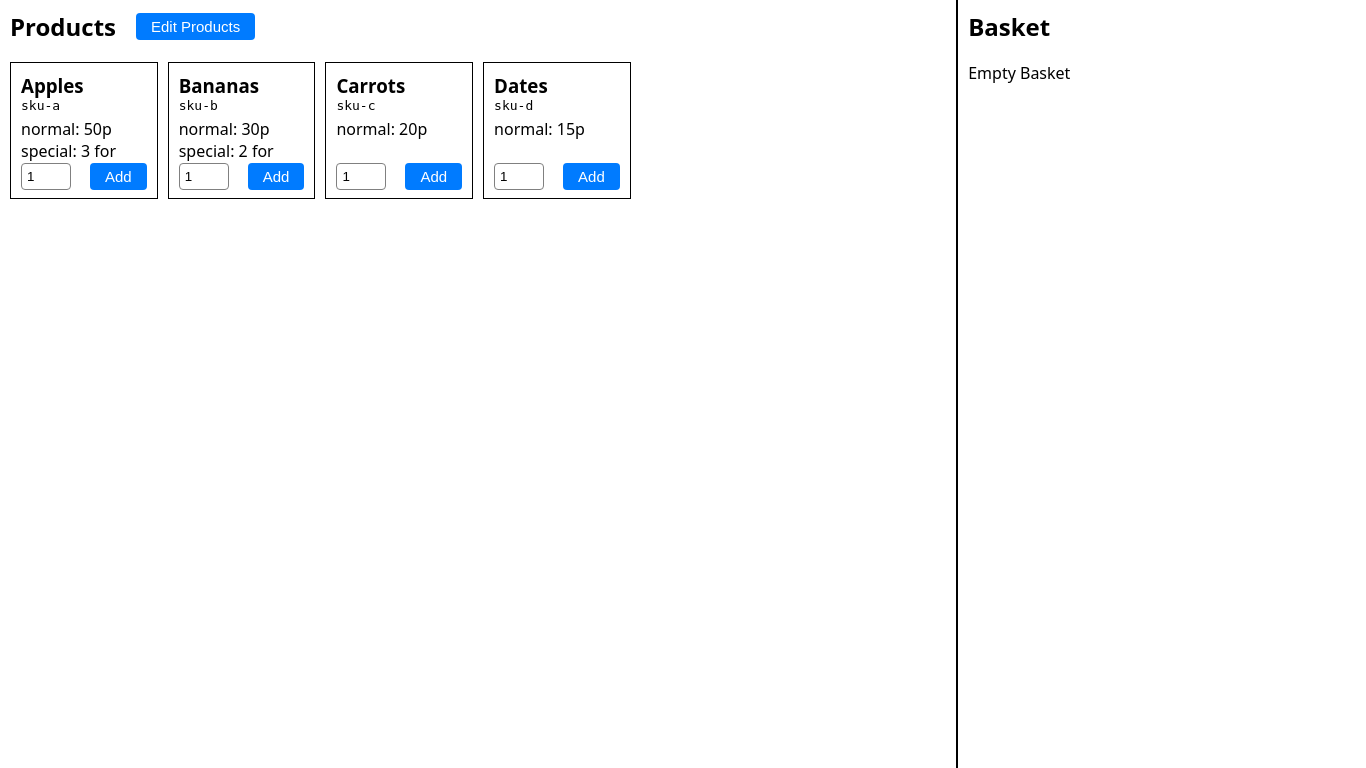
Shopping website › products › Able to update the quantity after an item has been added to the basket
Click the button "Add" in the row of "130" at (119, 177), box [90,163,147,190]
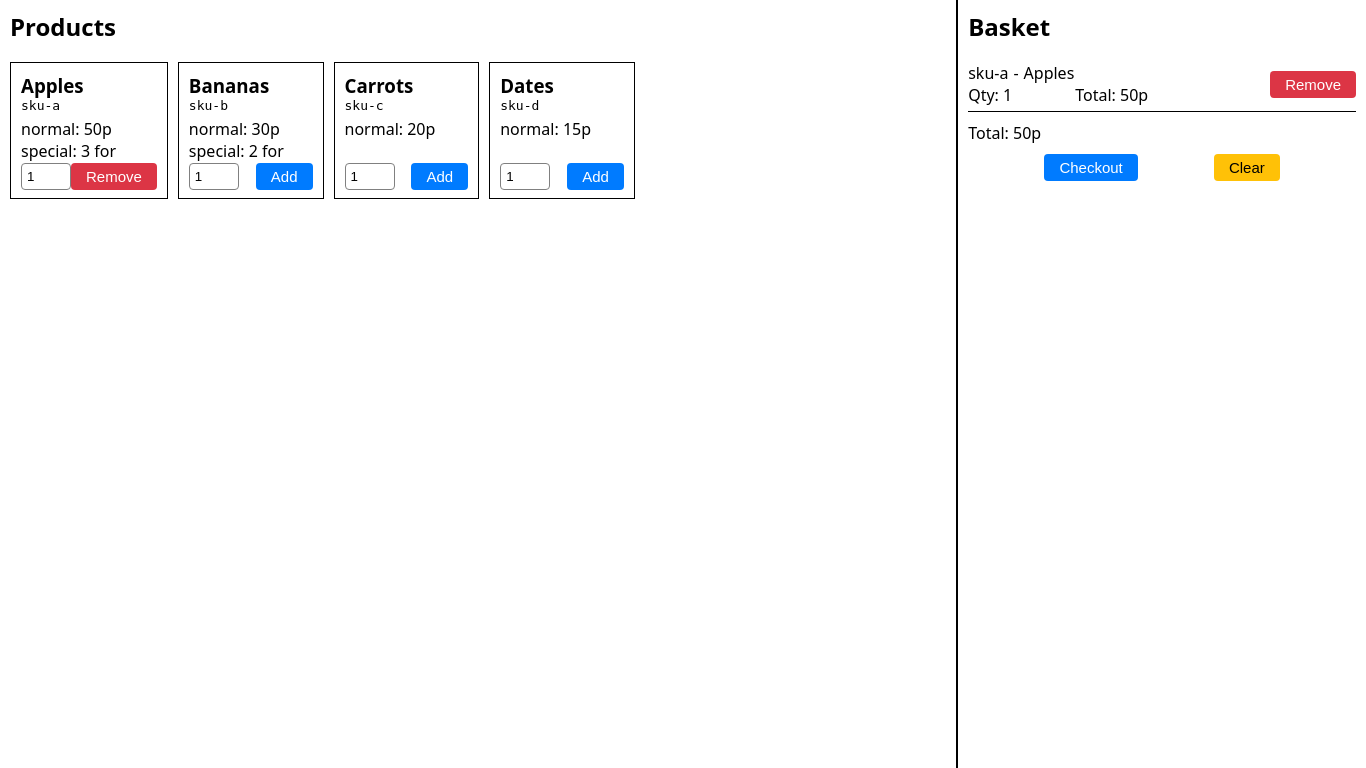
Result: the text with class "items" no longer shows "Empty Basket"
Result: the element showing "sku-a - apples Qty: 1 Total: 50p Remove" is shown at [968,62,1356,112]
Result: the button "Remove" in the row of "130" is shown at [71,163,157,190]
Replace the text in the number field next to "130" with "3" at (46, 177), box [21,163,71,190]
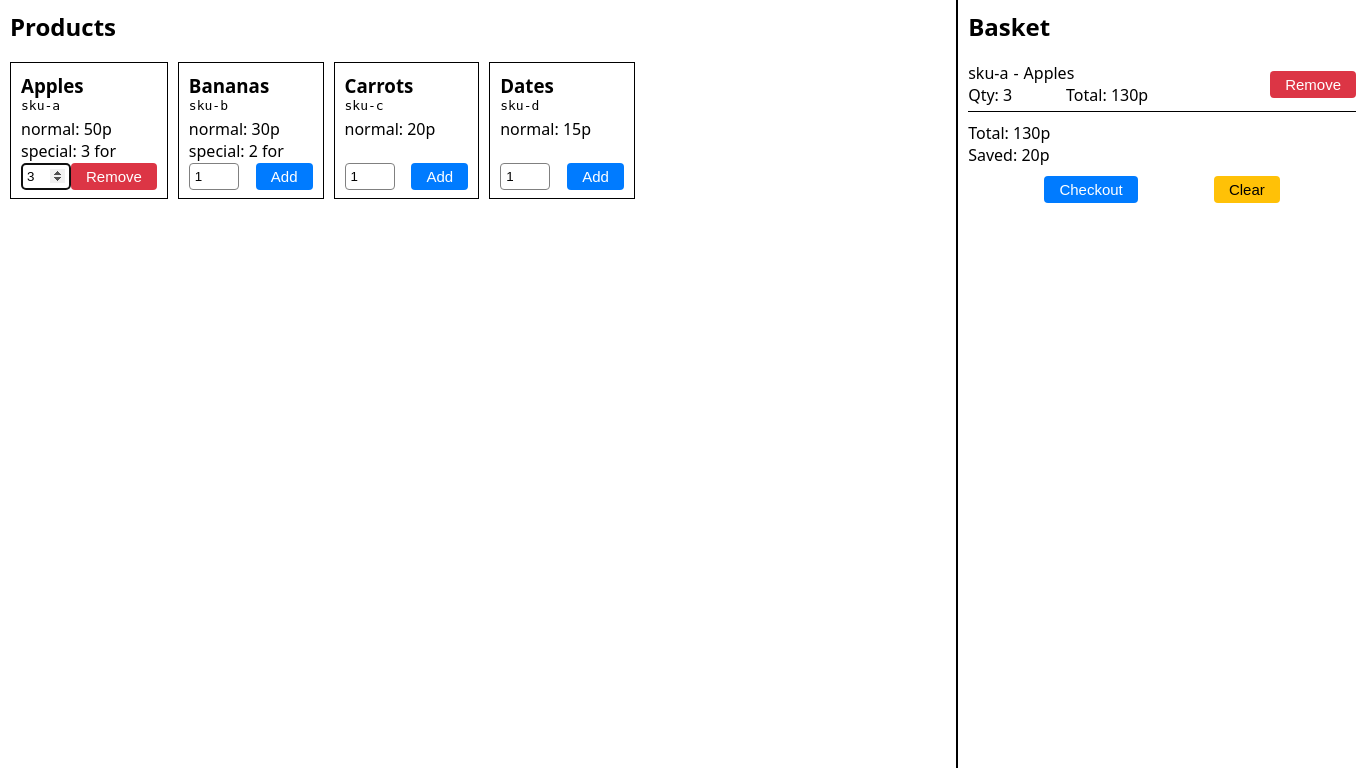
Result: the text with class "items" does not show "Empty Basket"
Result: the element showing "sku-a - apples Qty: 3 Total: 130p Remove" is shown at [968,62,1356,112]
Result: the text "Qty: 3" is shown at [968,84,1012,106]
